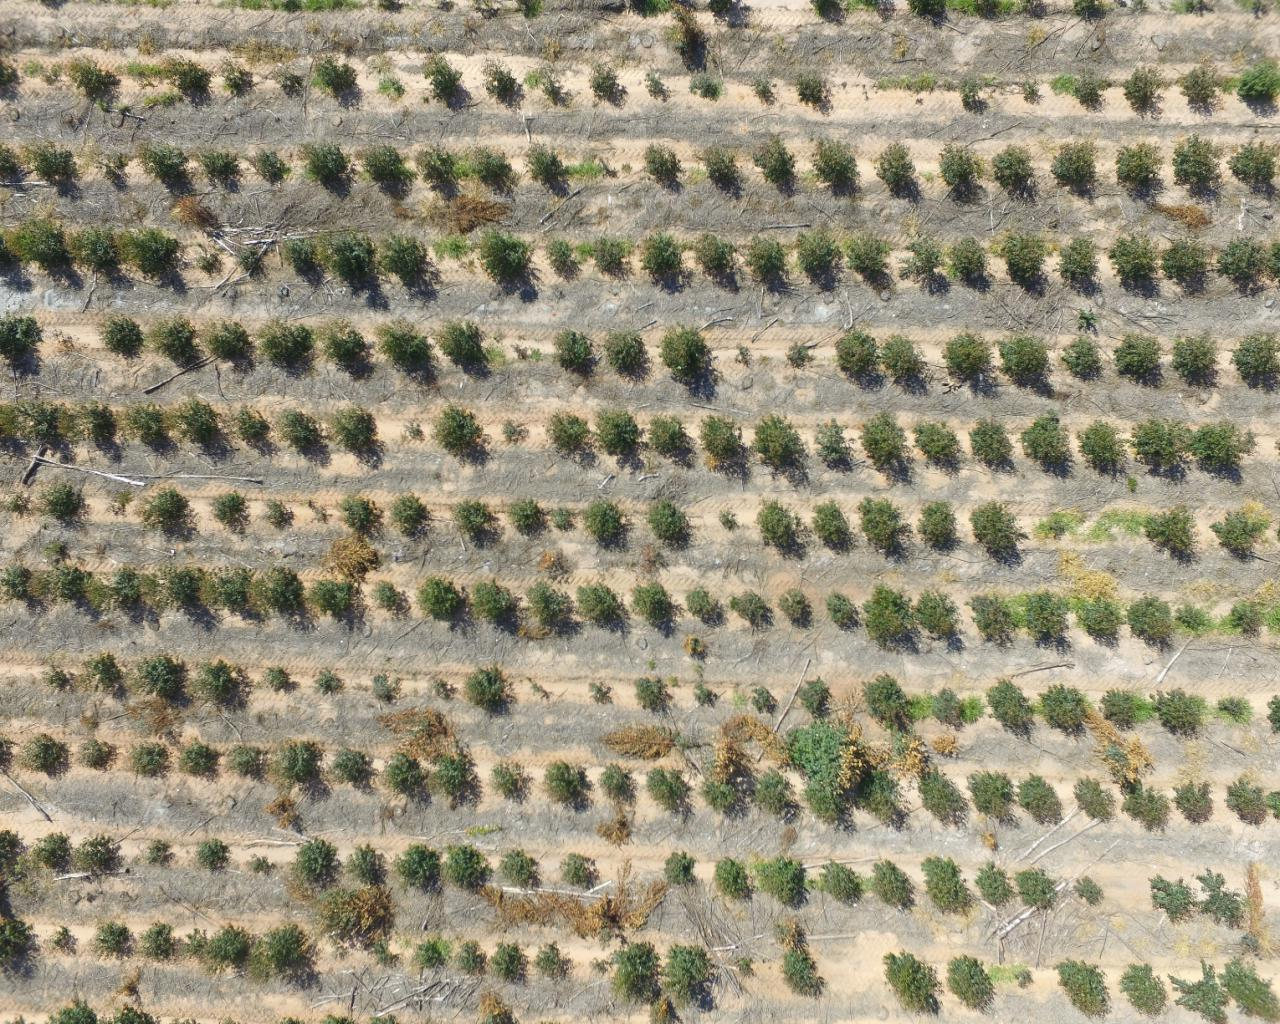Tree: (857, 411, 912, 474), (657, 324, 713, 380), (884, 954, 940, 1009), (377, 322, 432, 378), (752, 416, 806, 471), (831, 325, 883, 380), (920, 772, 970, 828), (664, 944, 706, 1005), (1023, 413, 1070, 468), (1055, 965, 1110, 1013), (868, 592, 914, 648), (883, 331, 928, 388), (946, 957, 996, 1007), (946, 335, 996, 383), (331, 411, 381, 459), (648, 768, 696, 818), (974, 504, 1018, 558), (435, 758, 483, 806), (863, 778, 908, 830), (1227, 970, 1278, 1015), (1002, 338, 1049, 386), (863, 497, 903, 554), (909, 420, 961, 463), (813, 416, 856, 468), (264, 326, 315, 370), (545, 764, 596, 808), (974, 590, 1014, 646), (439, 323, 485, 370), (972, 776, 1018, 823), (1144, 509, 1192, 554), (757, 770, 800, 819), (282, 746, 328, 792), (917, 597, 961, 645), (1121, 967, 1169, 1010), (1026, 596, 1069, 645), (1174, 977, 1226, 1018), (1085, 588, 1122, 644), (425, 53, 465, 106), (209, 320, 254, 366), (809, 786, 854, 832), (154, 319, 197, 366), (629, 583, 674, 628), (1019, 782, 1065, 825), (1, 317, 41, 367), (613, 949, 653, 999), (332, 745, 376, 790), (99, 316, 143, 359), (328, 330, 369, 377), (580, 584, 623, 628), (436, 412, 481, 453), (874, 859, 910, 910), (1081, 423, 1122, 468), (927, 864, 970, 906), (969, 422, 1009, 466), (1125, 786, 1166, 830), (387, 757, 426, 801), (608, 331, 649, 374), (783, 953, 825, 994), (1131, 599, 1170, 643), (1204, 879, 1242, 924), (586, 497, 624, 543), (1062, 336, 1102, 378), (228, 743, 269, 785), (700, 782, 747, 817), (552, 331, 594, 371), (486, 236, 523, 280), (760, 504, 796, 549), (703, 420, 741, 462), (301, 146, 346, 181), (30, 406, 70, 445), (920, 507, 958, 546), (765, 862, 804, 902), (279, 412, 320, 449), (598, 418, 639, 455), (453, 499, 491, 539), (1151, 878, 1189, 917), (1240, 334, 1277, 375), (1075, 782, 1112, 822), (599, 765, 637, 802), (1228, 785, 1265, 823), (1198, 426, 1239, 462), (1051, 146, 1093, 181), (713, 859, 748, 899), (333, 501, 378, 532), (184, 740, 216, 783), (131, 233, 168, 270), (390, 497, 427, 534), (867, 681, 905, 718), (493, 763, 530, 800), (1181, 339, 1216, 377), (170, 59, 209, 94), (54, 571, 87, 612), (995, 150, 1031, 187), (652, 505, 689, 541), (1232, 146, 1272, 180), (846, 238, 886, 272), (551, 413, 583, 453), (1179, 146, 1216, 181), (533, 583, 567, 621), (1020, 869, 1054, 907), (1142, 424, 1181, 458), (132, 743, 168, 777), (651, 417, 681, 458), (1006, 240, 1042, 275), (365, 152, 406, 181), (1048, 693, 1085, 726), (1123, 339, 1161, 371), (267, 574, 300, 611), (75, 63, 116, 92), (822, 864, 857, 899), (1163, 694, 1196, 729), (1120, 147, 1153, 184), (479, 585, 515, 618), (27, 739, 64, 771), (271, 927, 302, 964), (688, 589, 722, 623), (168, 575, 203, 608), (828, 594, 860, 629), (313, 583, 351, 613), (1178, 787, 1211, 820), (181, 404, 213, 439), (333, 241, 369, 273), (817, 153, 855, 182), (223, 573, 250, 612), (813, 508, 843, 543), (133, 408, 162, 444), (4, 571, 30, 611), (697, 236, 729, 269), (1132, 71, 1157, 112), (150, 491, 183, 522), (779, 595, 812, 626), (734, 591, 766, 623), (419, 149, 452, 180), (1064, 242, 1094, 276), (84, 234, 117, 264), (30, 232, 64, 262), (36, 147, 70, 177), (46, 486, 80, 515), (149, 661, 179, 696), (386, 245, 422, 272), (1224, 515, 1255, 546), (1116, 243, 1148, 274), (285, 240, 318, 271), (300, 843, 329, 877), (592, 65, 620, 100), (144, 154, 181, 180), (529, 148, 558, 181), (978, 871, 1010, 901), (113, 569, 137, 608), (647, 150, 677, 181), (647, 241, 677, 272), (946, 154, 975, 185), (992, 692, 1023, 721), (801, 242, 834, 271), (213, 929, 247, 956), (422, 584, 457, 610), (1225, 247, 1257, 274), (449, 853, 483, 879), (214, 493, 243, 522), (85, 740, 114, 769), (954, 243, 984, 272), (636, 679, 667, 707), (89, 658, 119, 686), (85, 408, 112, 439), (236, 414, 267, 441), (537, 944, 564, 975), (705, 153, 738, 179), (749, 249, 784, 273), (250, 153, 287, 174), (478, 149, 507, 178), (401, 850, 430, 878), (512, 501, 539, 531), (320, 64, 351, 90), (1106, 693, 1131, 724), (460, 942, 485, 974), (1248, 67, 1270, 102), (913, 246, 937, 278), (356, 848, 379, 882), (761, 148, 788, 177), (494, 948, 521, 976), (87, 838, 114, 866), (883, 152, 909, 181), (667, 854, 692, 884), (206, 667, 228, 700), (1191, 74, 1215, 104), (1169, 248, 1201, 271), (546, 240, 573, 267), (471, 673, 498, 699), (1075, 882, 1106, 905), (508, 850, 530, 881), (43, 667, 70, 692), (419, 942, 444, 970), (489, 71, 514, 98), (1, 921, 25, 949), (264, 501, 290, 526), (1179, 605, 1208, 627), (502, 419, 531, 440), (203, 154, 233, 173), (786, 344, 813, 366), (800, 685, 825, 708), (800, 76, 822, 102), (646, 74, 668, 100), (42, 835, 63, 861), (935, 693, 956, 718), (1078, 78, 1097, 106), (734, 342, 753, 367), (373, 947, 398, 967), (1241, 609, 1260, 635), (226, 67, 248, 89), (102, 925, 123, 948), (568, 856, 588, 880), (964, 86, 983, 111), (201, 846, 226, 865), (597, 246, 619, 266), (380, 583, 401, 605), (150, 927, 168, 952), (186, 934, 208, 954), (1, 61, 18, 86), (199, 253, 220, 272), (99, 163, 122, 181), (543, 79, 565, 97), (242, 253, 262, 272), (696, 80, 717, 98), (430, 676, 448, 696), (752, 689, 769, 709), (266, 671, 287, 688), (317, 672, 338, 689), (752, 82, 772, 98), (280, 71, 297, 91), (1017, 968, 1032, 988), (375, 678, 393, 696), (717, 512, 737, 528), (551, 514, 573, 528), (1221, 698, 1239, 714), (1271, 791, 1279, 822), (1272, 700, 1279, 735), (696, 684, 711, 701), (408, 423, 421, 441), (591, 686, 609, 699), (251, 856, 269, 868), (1026, 86, 1040, 101), (150, 844, 162, 858), (1053, 523, 1064, 537), (54, 932, 66, 944)
